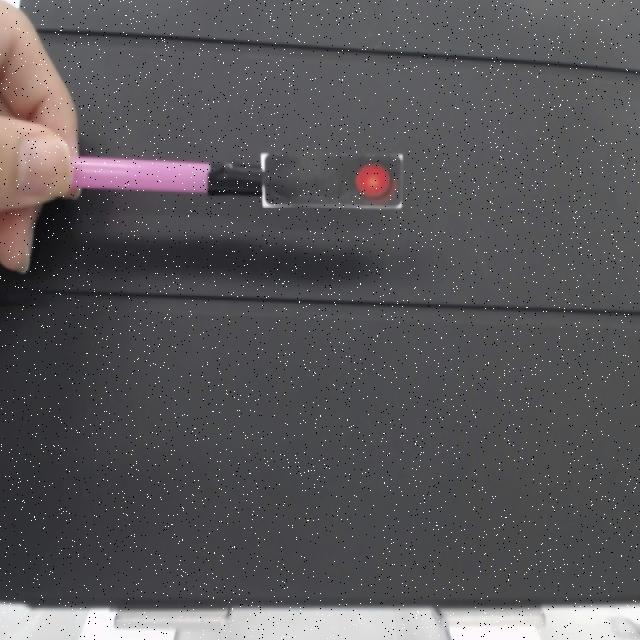traffic light: (260, 146, 406, 216)
